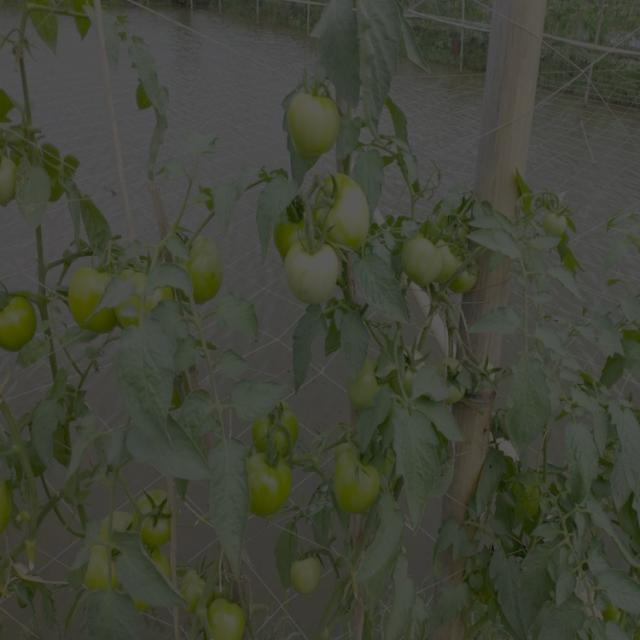tomato: (282, 237, 349, 312), (312, 169, 376, 247), (286, 89, 347, 165), (64, 261, 120, 339), (334, 449, 385, 521), (136, 488, 183, 552), (251, 440, 290, 513), (5, 292, 45, 360), (252, 392, 295, 455), (202, 595, 256, 640), (182, 244, 223, 303), (405, 225, 443, 283), (271, 196, 305, 251), (88, 526, 116, 590), (286, 556, 325, 601), (356, 351, 382, 408), (443, 355, 468, 412), (518, 474, 545, 525), (545, 203, 575, 244), (184, 565, 211, 610), (450, 258, 475, 303), (1, 149, 20, 204), (440, 236, 454, 276)
